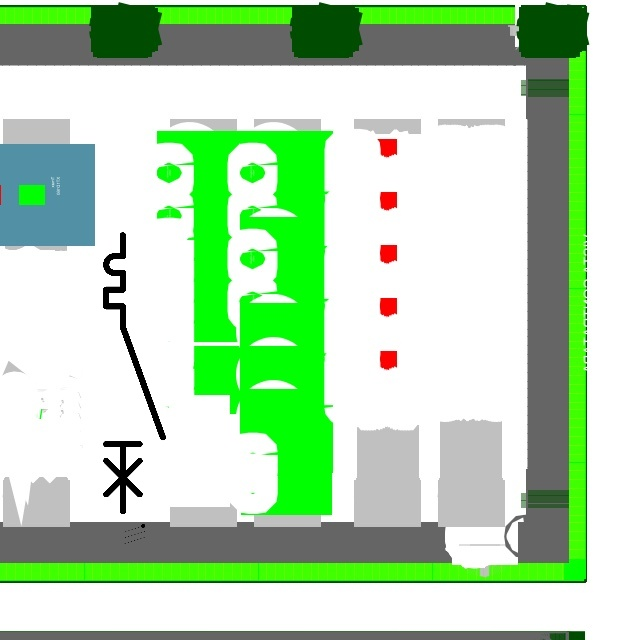interruptor_termomagnetico: (99, 228, 170, 518)
